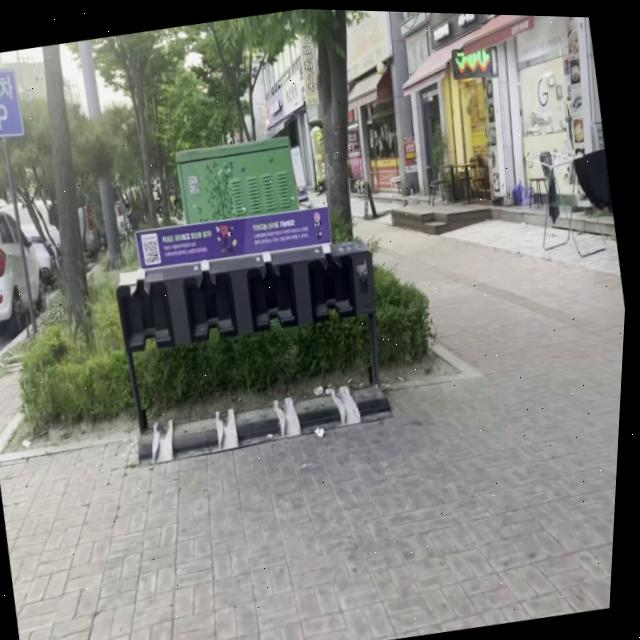parking_zone: (96, 195, 406, 471)
